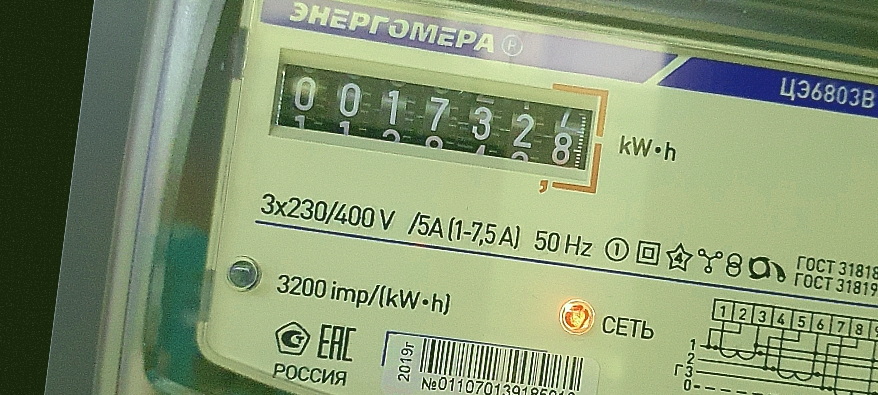0: (289, 72, 320, 114), (336, 79, 363, 119)
1: (380, 86, 403, 127)
2: (510, 110, 537, 150)
3: (469, 104, 495, 142)
7: (424, 93, 451, 134)
8: (550, 128, 573, 166)
screen: (255, 43, 620, 202)
